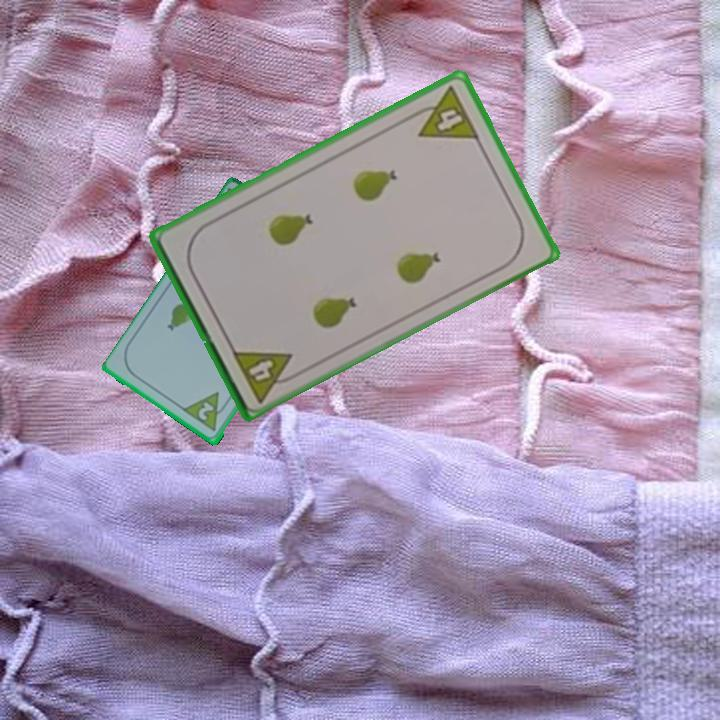2p: (194, 399, 217, 424)
4p: (405, 82, 482, 143), (228, 345, 303, 406)
